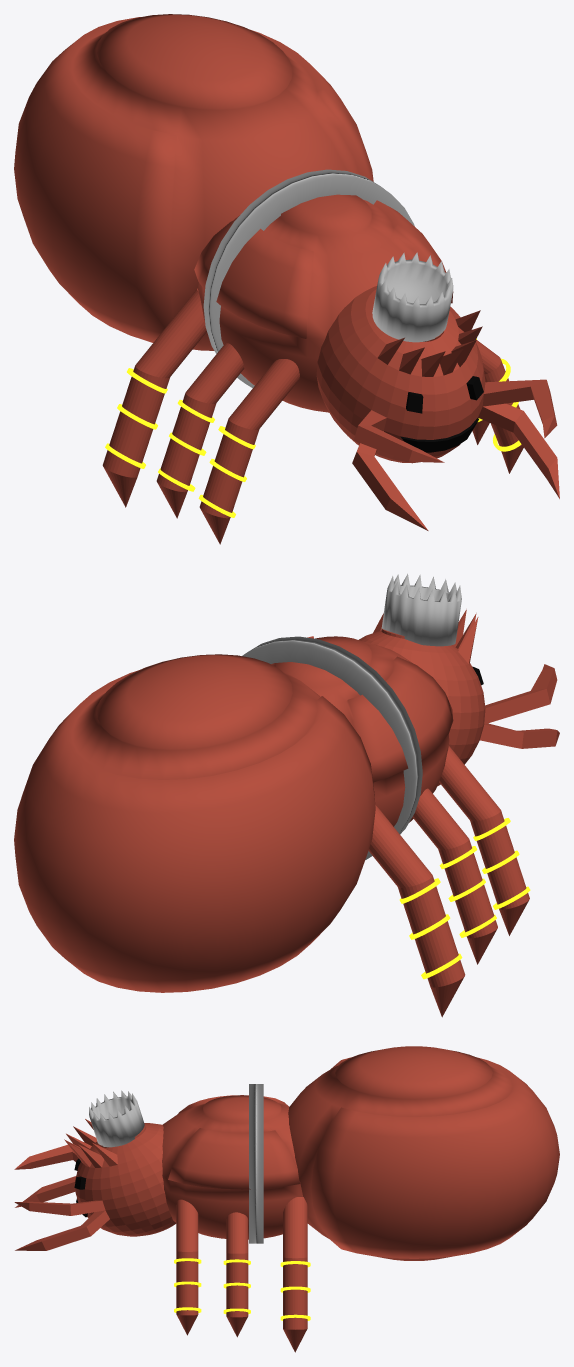
The model's file is Model_Defender_Advanced_FullUpgrade.fbx.
The picture shows the model from 3 angles, top to bottom: view 1: azimuth 30°, elevation 25°; view 2: azimuth 150°, elevation 25°; view 3: azimuth 270°, elevation 25°; orthographic projection. The views are drawn at different scales.
Parts seen in each view (by area): view 1: Sphere, Sphere.002, Sphere.001, Cylinder, Cylinder.002, Cylinder.001, Cylinder.003; view 2: Sphere, Cylinder, Sphere.001, Sphere.002, Cylinder.002, Cylinder.001, Cylinder.003; view 3: Sphere, Sphere.001, Sphere.002, Cylinder, Cylinder.002, Cylinder.001, Cylinder.003.
Part boxes in pixels (left/top/right/bottom): Sphere: left=14, top=14, right=373, bottom=350; Sphere.002: left=316, top=286, right=559, bottom=530; Sphere.001: left=194, top=194, right=453, bottom=412; Cylinder: left=102, top=288, right=523, bottom=544; Cylinder.002: left=203, top=169, right=414, bottom=388; Cylinder.001: left=372, top=252, right=453, bottom=342; Cylinder.003: left=105, top=338, right=521, bottom=517; Sphere: left=14, top=654, right=375, bottom=992; Cylinder: left=368, top=745, right=529, bottom=1017; Sphere.001: left=271, top=636, right=453, bottom=826; Sphere.002: left=359, top=609, right=559, bottom=786; Cylinder.002: left=242, top=636, right=422, bottom=859; Cylinder.001: left=381, top=573, right=461, bottom=646; Cylinder.003: left=399, top=818, right=530, bottom=979; Sphere: left=288, top=1046, right=559, bottom=1260; Sphere.001: left=162, top=1095, right=302, bottom=1239; Sphere.002: left=14, top=1119, right=176, bottom=1250; Cylinder: left=176, top=1196, right=307, bottom=1352; Cylinder.002: left=249, top=1084, right=263, bottom=1243; Cylinder.001: left=89, top=1090, right=144, bottom=1147; Cylinder.003: left=174, top=1258, right=310, bottom=1320.
Bounding box in the file's own units: 457 × 449 × 908.
